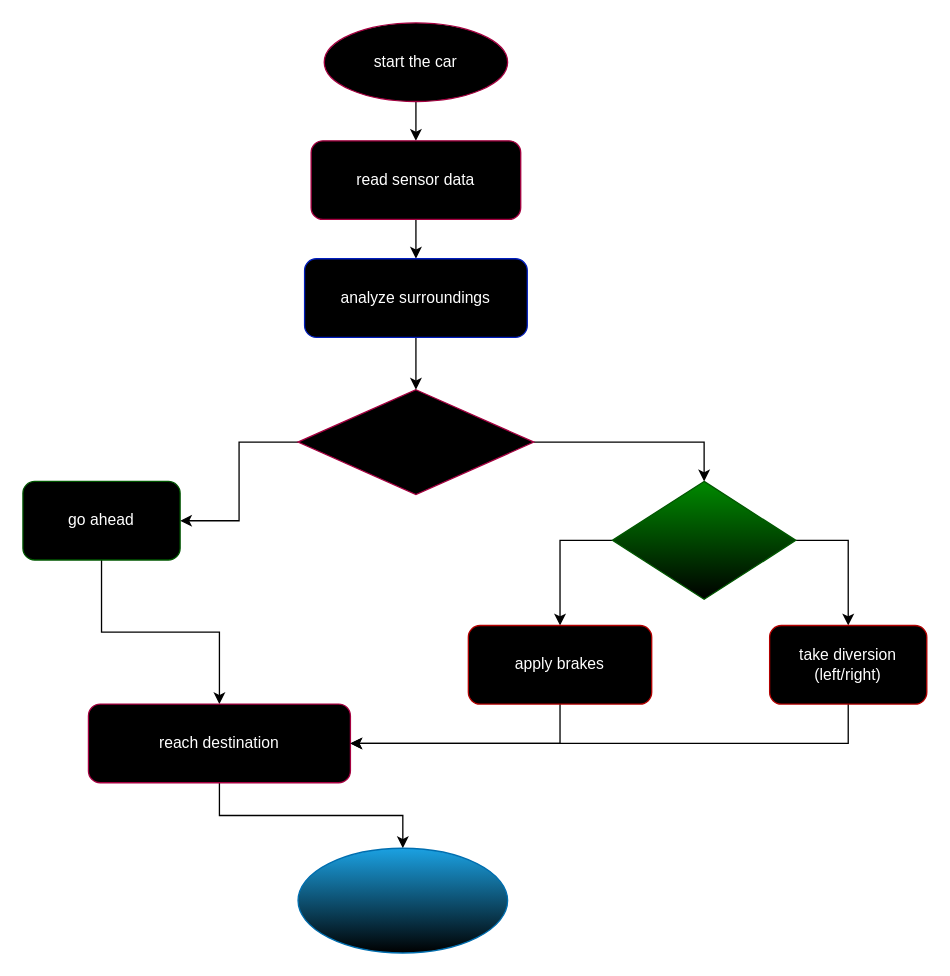
This 950x976 diagram has some shape labels left out. Here are the shapes that lost their labels. From the top down, the centre of each, then its label:
At [415,441]: "obstacle ahead?".
At [703,539]: "other path avaliable?".
At [402,900]: "stop the car".
